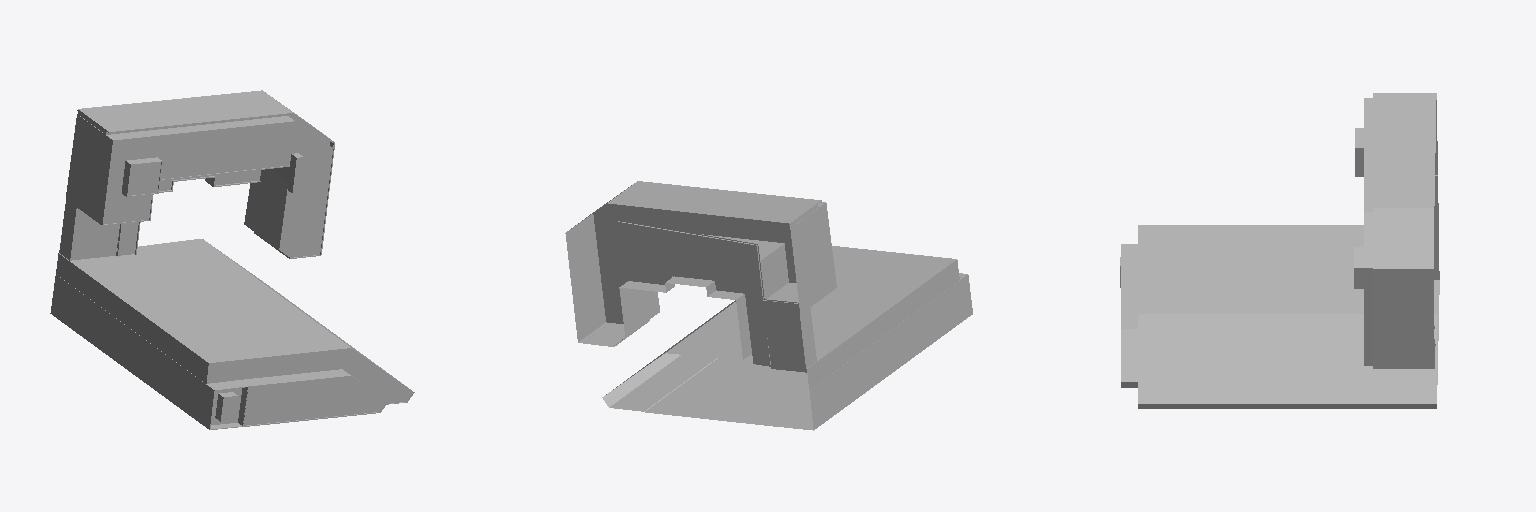
Rendered from Buildings_subset_24.obj.
The picture shows the model from 3 angles: view 1: azimuth 30°, elevation 25°; view 2: azimuth 150°, elevation 25°; view 3: azimuth 270°, elevation 25°; orthographic projection.
Parts seen in each view (by area): view 1: object__2, object__13, object__29, object__97, object__9, object__46, object__50, object__56, object__23, object__83; view 2: object__2, object__13, object__20, object__29, object__97, object__9, object__46, object__95, object__10, object__50, object__11, object__48 (+3 smaller); view 3: object__12, object__13, object__97, object__95, object__96, object__11, object__23, object__56, object__22, object__54.
Part boxes in pixels (bbox=[...]): object__2: bbox=[70, 113, 414, 429]; object__13: bbox=[59, 239, 350, 362]; object__29: bbox=[50, 275, 214, 429]; object__97: bbox=[78, 90, 292, 131]; object__9: bbox=[56, 253, 208, 383]; object__46: bbox=[66, 114, 112, 224]; object__50: bbox=[244, 169, 287, 249]; object__56: bbox=[80, 116, 293, 139]; object__23: bbox=[240, 369, 350, 385]; object__83: bbox=[59, 200, 76, 260]; object__2: bbox=[593, 203, 806, 372]; object__13: bbox=[666, 246, 956, 368]; object__20: bbox=[645, 354, 810, 426]; object__29: bbox=[809, 275, 972, 429]; object__97: bbox=[608, 181, 820, 223]; object__9: bbox=[807, 260, 959, 389]; object__46: bbox=[790, 203, 836, 314]; object__95: bbox=[565, 214, 605, 341]; object__10: bbox=[610, 355, 716, 411]; object__50: bbox=[619, 288, 659, 336]; object__11: bbox=[602, 353, 680, 407]; object__48: bbox=[761, 249, 788, 298]; object__12: bbox=[1138, 314, 1436, 403]; object__13: bbox=[1138, 225, 1436, 313]; object__97: bbox=[1373, 93, 1436, 207]; object__95: bbox=[1373, 269, 1434, 368]; object__96: bbox=[1373, 208, 1433, 268]; object__11: bbox=[1138, 404, 1436, 408]; object__23: bbox=[1121, 264, 1137, 328]; object__56: bbox=[1364, 98, 1372, 211]; object__22: bbox=[1121, 329, 1137, 381]; object__54: bbox=[1364, 268, 1372, 365].
Size of the model in its own units: 368 by 319 by 404.